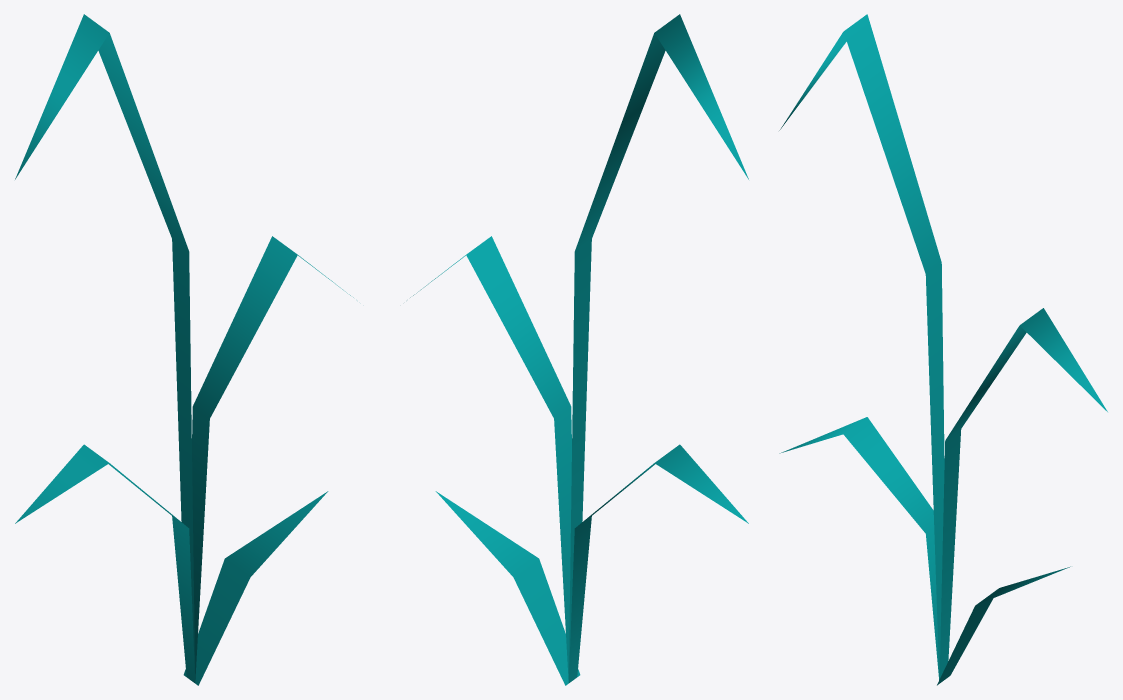
Rendered from plant_big.fbx.
The picture shows the model from 3 angles, left to right: view 1: azimuth 30°, elevation 25°; view 2: azimuth 150°, elevation 25°; view 3: azimuth 330°, elevation 25°; orthographic projection. The views are drawn at different scales.
Parts seen in each view (by area): view 1: mergedBlocks; view 2: mergedBlocks; view 3: mergedBlocks.
Boxes of the visible parts, x1,y1,x2,y2 form: mergedBlocks: (15, 14, 353, 685); mergedBlocks: (410, 14, 748, 685); mergedBlocks: (779, 14, 1107, 685).
Bounding box in the file's own units: 20.42 × 37.59 × 2.58.
